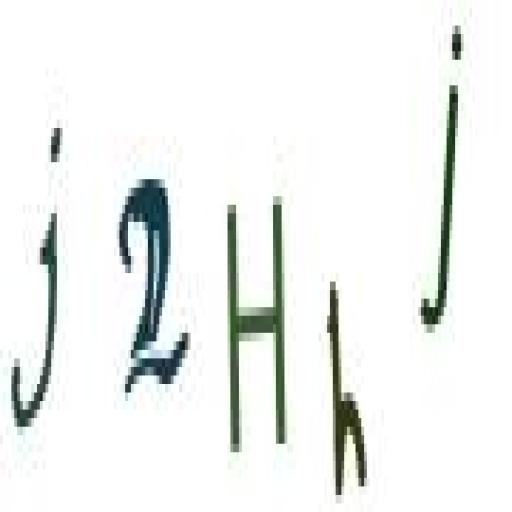2: (112, 156, 192, 420)
H: (225, 177, 292, 482)
h: (320, 256, 372, 512)
j: (4, 96, 65, 457), (421, 10, 463, 375)
